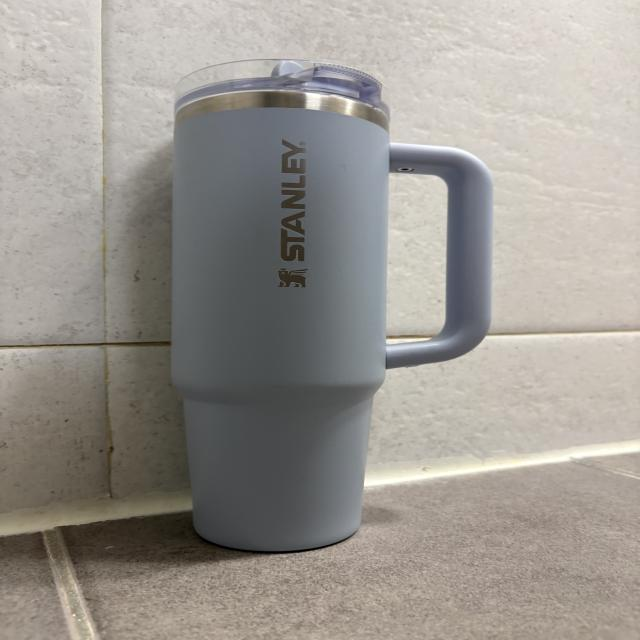waterbottle: (176, 59, 492, 553)
